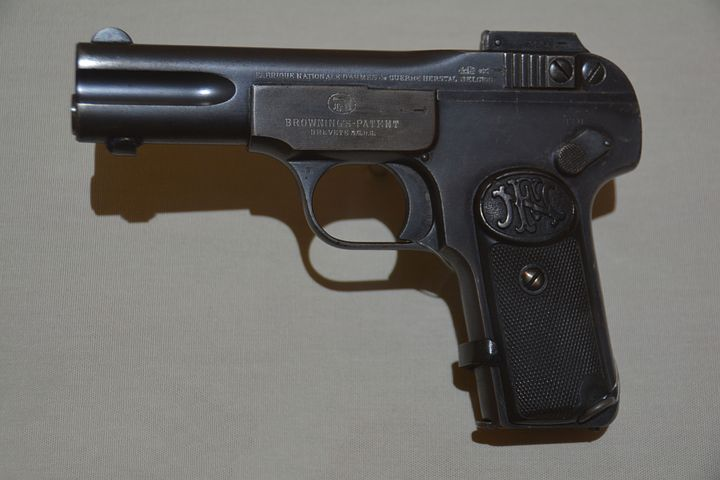gun: (61, 14, 645, 451)
